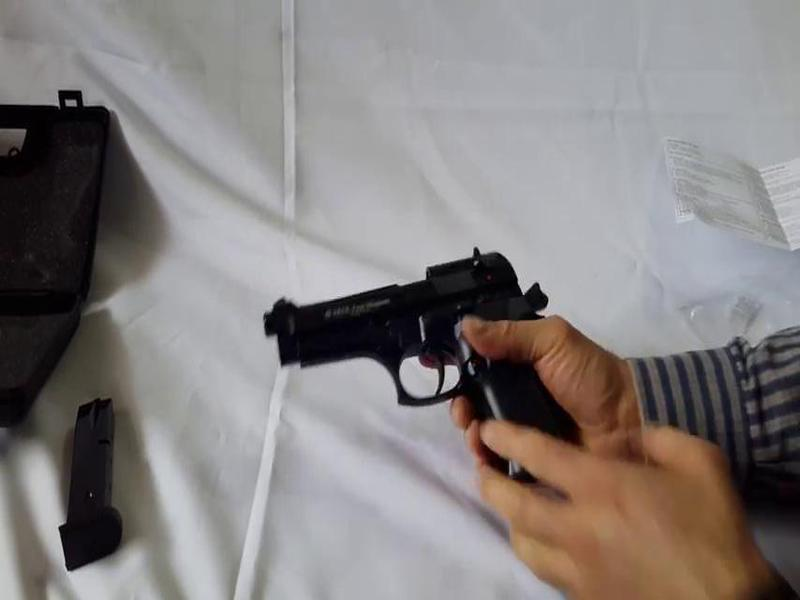Pistola: (251, 244, 574, 494)
